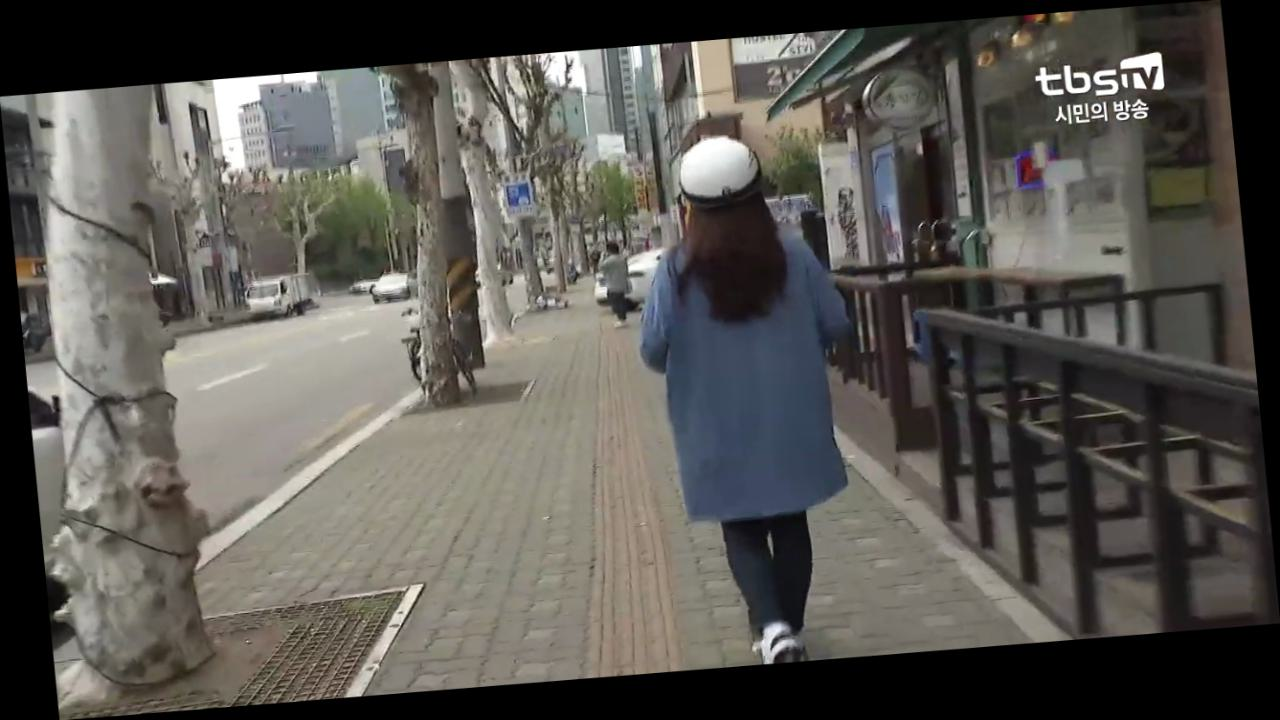helmet: (618, 127, 887, 672)
